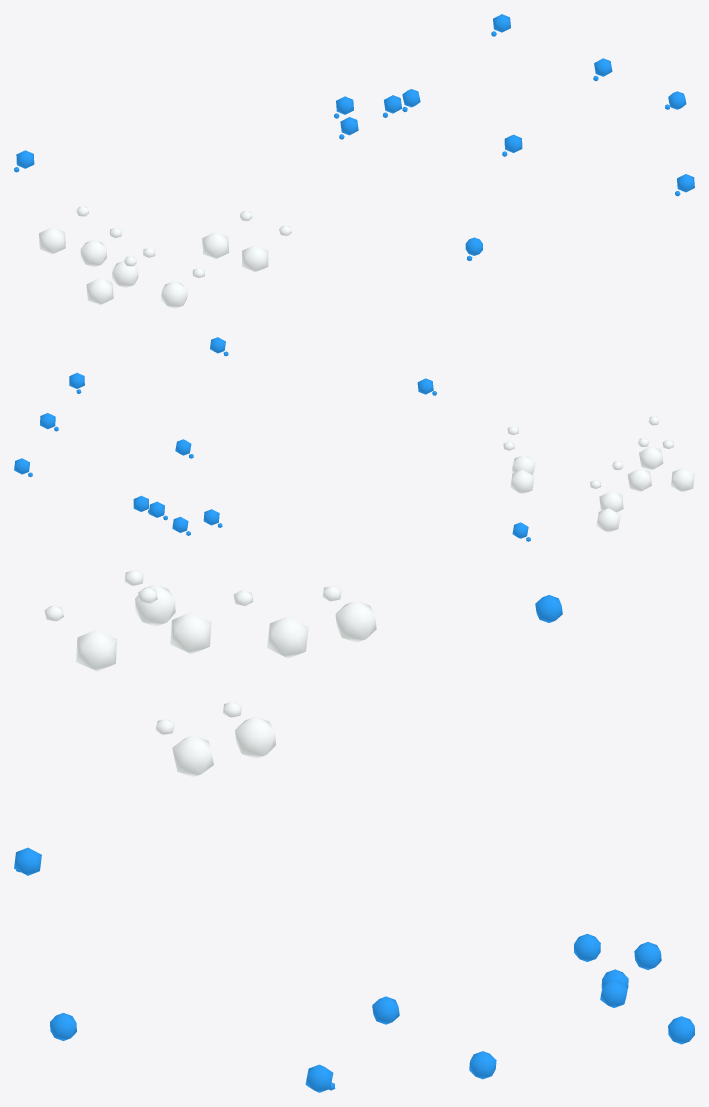
The model's file is model_chunk_5.glb.
The picture shows the model from 3 angles, top to bottom: view 1: azimuth 30°, elevation 25°; view 2: azimuth 150°, elevation 25°; view 3: azimuth 270°, elevation 25°; orthographic projection. The views are drawn at different scales.
Visible parts, largest first — view 1: SplashParticle01365, SplashParticle01345, SplashParticle01024, SplashParticle01357, SplashParticle01337, SplashParticle01338, SplashParticle01327; view 2: SplashParticle01024, SplashParticle01357, SplashParticle01345, SplashParticle01338, SplashParticle01327, SplashParticle01337, SplashParticle01365; view 3: SplashParticle01338, SplashParticle01327, SplashParticle01337, SplashParticle01345, SplashParticle01357, SplashParticle01365, SplashParticle01024.
Boxes of the visible parts, <box> form: SplashParticle01365: <box>242,225,291,272</box>; SplashParticle01345: <box>39,206,88,254</box>; SplashParticle01024: <box>86,256,136,305</box>; SplashParticle01357: <box>202,211,252,259</box>; SplashParticle01337: <box>80,227,122,267</box>; SplashParticle01338: <box>161,268,204,308</box>; SplashParticle01327: <box>112,247,155,287</box>; SplashParticle01024: <box>662,440,694,492</box>; SplashParticle01357: <box>503,441,534,494</box>; SplashParticle01345: <box>590,480,620,532</box>; SplashParticle01338: <box>639,416,663,470</box>; SplashParticle01327: <box>627,438,651,492</box>; SplashParticle01337: <box>599,461,623,512</box>; SplashParticle01365: <box>507,426,535,475</box>; SplashParticle01338: <box>44,605,116,671</box>; SplashParticle01327: <box>138,587,211,654</box>; SplashParticle01337: <box>233,590,308,658</box>; SplashParticle01345: <box>322,585,376,642</box>; SplashParticle01357: <box>222,702,275,758</box>; SplashParticle01365: <box>155,719,213,777</box>; SplashParticle01024: <box>124,570,175,626</box>.
Bounding box in the file's own units: 1.1 × 0.1272 × 0.651.
1 material, 1 textured.
